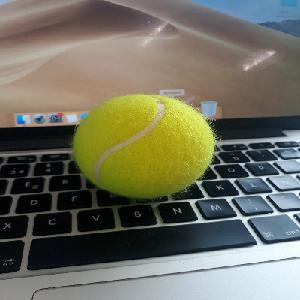Ball: (72, 94, 215, 199)
